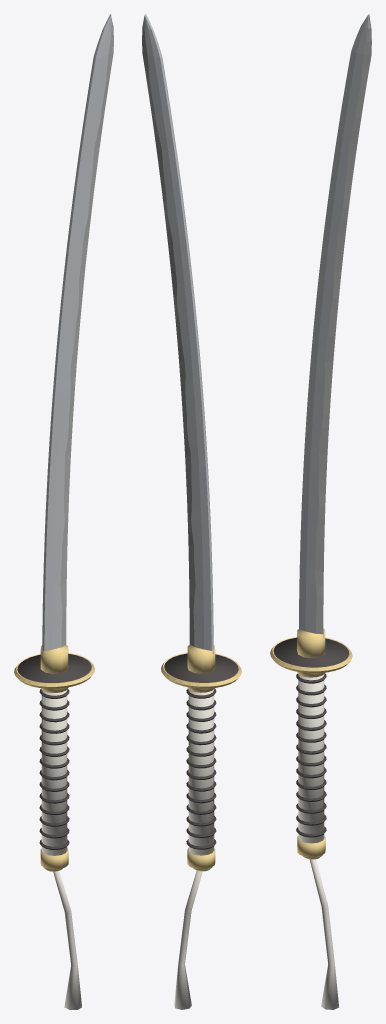
The model's file is kurogane_katana.glb.
The picture shows the model from 3 angles, left to right: view 1: azimuth 30°, elevation 25°; view 2: azimuth 150°, elevation 25°; view 3: azimuth 330°, elevation 25°; orthographic projection.
Visible parts, largest first — view 1: G_kurogane_katana; view 2: G_kurogane_katana; view 3: G_kurogane_katana.
Boxes of the visible parts, <box> form: G_kurogane_katana: <box>14,14,113,1009</box>; G_kurogane_katana: <box>142,14,241,1009</box>; G_kurogane_katana: <box>270,14,371,1009</box>.
Bounding box in the file's own units: 0.144 × 1.42 × 0.0997.
